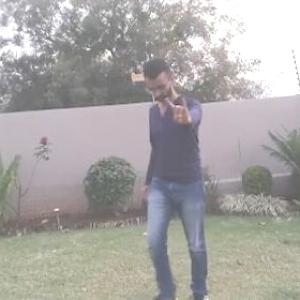takeoff-hand: (161, 90, 194, 126)
